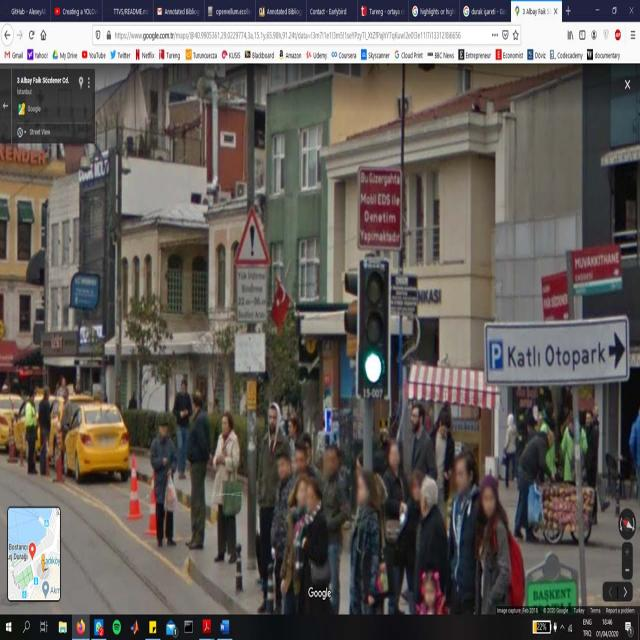park: (487, 338, 505, 370)
yesil: (359, 260, 388, 400)
